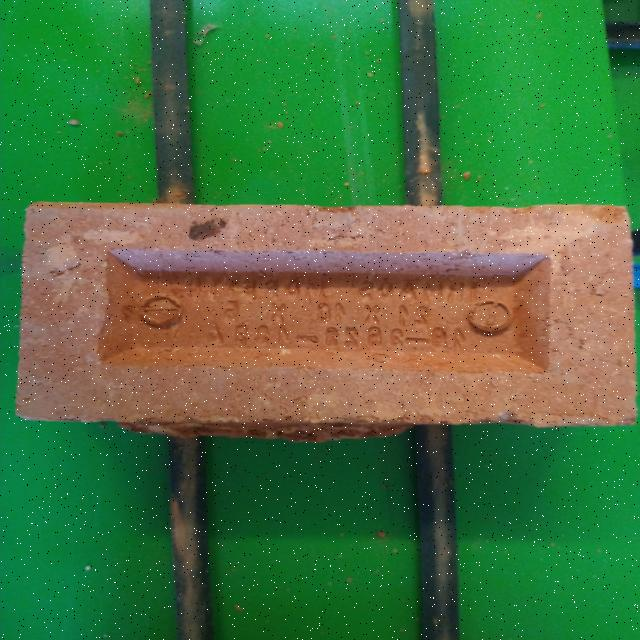bricks_ruin: (19, 199, 635, 443)
